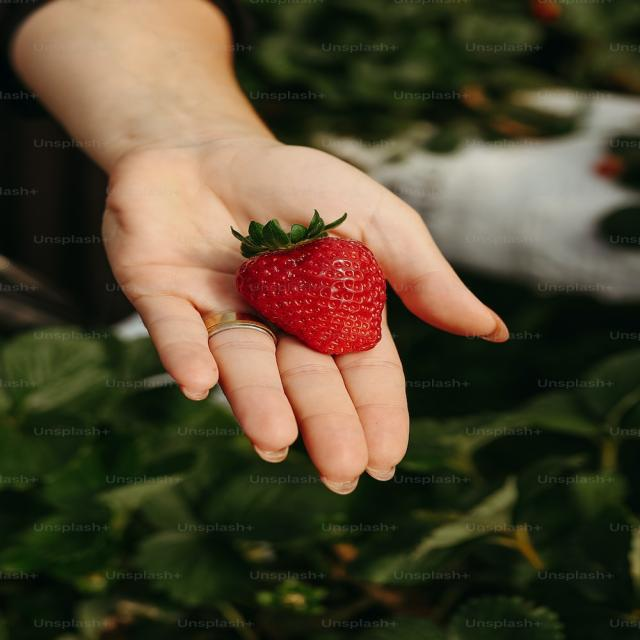strawberry: (199, 195, 430, 372)
